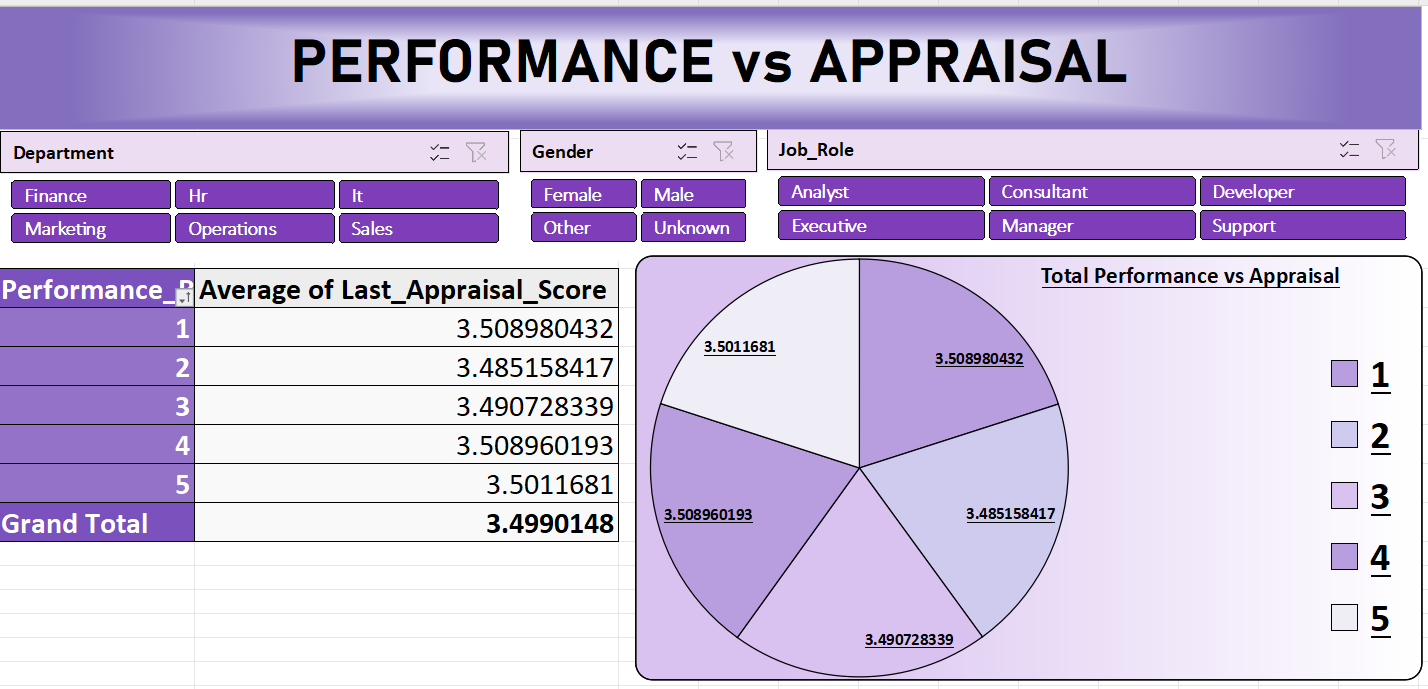

What the dashboard file says about the page in this screenshot:
{"tool":"powerbi","page":{"name":" Performance & Appraisal","canvas":[1280,720],"ordinal":2},"visuals":[{"type":"textbox","box":[95.8,7,378.9,59.2],"z":0},{"type":"textbox","box":[490.1,7,195.8,59.2],"z":1000},{"type":"cardVisual","fields":{"Data":["Min(ROW.Job_Role)"]},"box":[797.2,90.1,236.6,126.8],"z":2000},{"type":"cardVisual","fields":{"Data":["ROW.Performance Rating"]},"box":[588.7,87.3,197.2,126.8],"z":3000},{"type":"cardVisual","fields":{"Data":["Sum(ROW.Years_of_Experience)"]},"box":[1046.5,95.8,218.3,118.3],"z":4000},{"type":"slicer","fields":{"Values":["ROW.Department"]},"box":[14.1,95.8,163.4,346.5],"z":5000},{"type":"multiRowCard","fields":{"Values":["ROW.Average Appraisal Score","ROW.Average Monthly Income","Sum(ROW.Resigned)","ROW.Resignation Rate (%)"]},"box":[697.2,0,566.2,71.8],"z":6000},{"type":"textbox","box":[504.2,81.7,69,131],"z":7000},{"type":"image","box":[0,6.8,75.1,75.1],"z":8000},{"type":"slicer","fields":{"Values":["ROW.Job_Role"]},"box":[193,326.8,354.9,139.4],"z":9000},{"type":"columnChart","fields":{"Category":["ROW.Performance_Rating"],"Y":["ROW.Total Employees"]},"box":[14.1,480.3,533.8,228.2],"z":10000},{"type":"lineChart","fields":{"Y":["Sum(ROW.Last_Appraisal_Score)"],"Category":["ROW.Job_Role"]},"box":[561,505,708.4,203.4],"z":11000},{"type":"scatterChart","fields":{"Y":["ROW.Average Appraisal Score"],"X":["ROW.Years_of_Experience"]},"box":[566.2,226.8,698.6,263.4],"z":12000},{"type":"clusteredColumnChart","fields":{"Category":["ROW.Performance_Rating"],"Y":["Sum(ROW.Last_Appraisal_Score)"]},"box":[193,81.7,298.6,231],"z":13000}]}

Visuals, with their boxes on the page's 1280x720 design canvas (x1, y1, x2, y2). These are canvas units, not pixel positions in the 1428x689 screenshot, which may show the page scaled, cropped or inside an application window:
textbox: (x1=96, y1=7, x2=475, y2=66)
textbox: (x1=490, y1=7, x2=686, y2=66)
cardVisual - Min(ROW.Job_Role): (x1=797, y1=90, x2=1034, y2=217)
cardVisual - ROW.Performance Rating: (x1=589, y1=87, x2=786, y2=214)
cardVisual - Sum(ROW.Years_of_Experience): (x1=1046, y1=96, x2=1265, y2=214)
slicer - ROW.Department: (x1=14, y1=96, x2=178, y2=442)
multiRowCard - ROW.Average Appraisal Score x ROW.Average Monthly Income: (x1=697, y1=0, x2=1263, y2=72)
textbox: (x1=504, y1=82, x2=573, y2=213)
image: (x1=0, y1=7, x2=75, y2=82)
slicer - ROW.Job_Role: (x1=193, y1=327, x2=548, y2=466)
columnChart - ROW.Performance_Rating x ROW.Total Employees: (x1=14, y1=480, x2=548, y2=708)
lineChart - Sum(ROW.Last_Appraisal_Score) x ROW.Job_Role: (x1=561, y1=505, x2=1269, y2=708)
scatterChart - ROW.Average Appraisal Score x ROW.Years_of_Experience: (x1=566, y1=227, x2=1265, y2=490)
clusteredColumnChart - ROW.Performance_Rating x Sum(ROW.Last_Appraisal_Score): (x1=193, y1=82, x2=492, y2=313)
